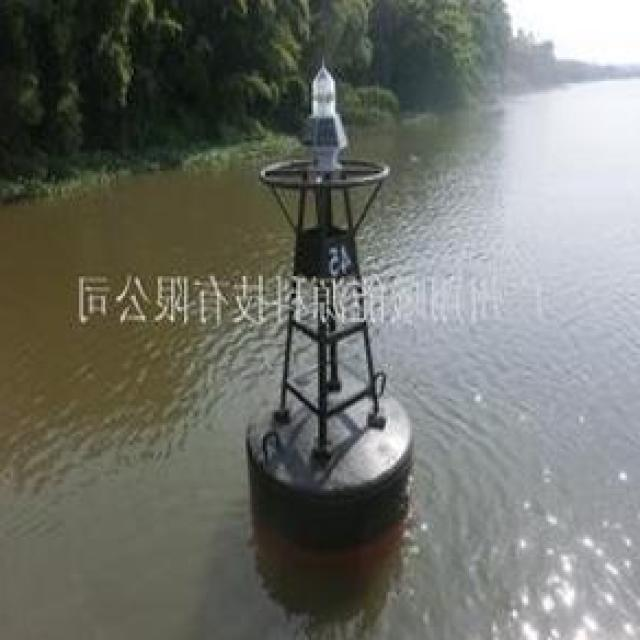buoy: (232, 57, 425, 515)
